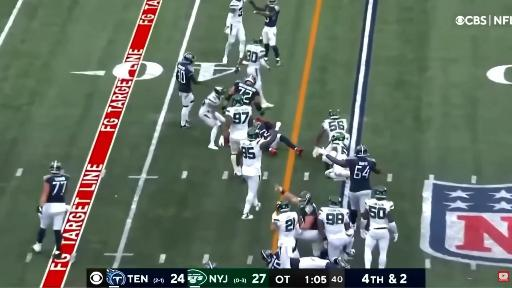Helmet: (299, 191, 311, 206), (355, 145, 368, 157), (374, 186, 386, 199), (330, 133, 346, 142), (277, 200, 290, 211), (262, 250, 273, 262), (50, 161, 61, 173), (248, 127, 258, 140), (214, 87, 225, 98), (329, 196, 340, 207), (232, 95, 243, 106), (183, 53, 195, 63), (245, 75, 256, 85), (329, 110, 339, 119), (253, 37, 263, 45), (205, 261, 216, 268), (254, 120, 261, 129), (268, 0, 277, 6)
Jersey: (346, 157, 376, 192), (319, 207, 349, 238), (272, 212, 298, 247), (365, 199, 393, 229), (240, 139, 263, 175), (226, 106, 251, 139), (44, 174, 69, 203), (234, 81, 259, 105), (176, 62, 194, 93), (322, 119, 347, 138), (300, 203, 317, 230), (246, 44, 265, 68), (327, 141, 347, 159), (230, 0, 244, 25), (202, 92, 220, 111), (265, 5, 279, 27), (258, 122, 273, 139), (269, 252, 282, 270)
Player: (320, 145, 381, 228), (236, 127, 277, 219), (33, 161, 69, 259), (275, 185, 323, 256), (362, 186, 398, 268), (238, 38, 273, 107), (222, 95, 251, 175), (318, 197, 354, 261), (250, 0, 281, 65), (272, 200, 299, 268), (176, 53, 200, 127), (313, 111, 349, 157), (223, 75, 264, 115), (199, 87, 225, 149), (223, 0, 245, 64), (270, 134, 303, 154), (323, 156, 349, 180), (291, 257, 343, 268), (205, 261, 217, 268)
